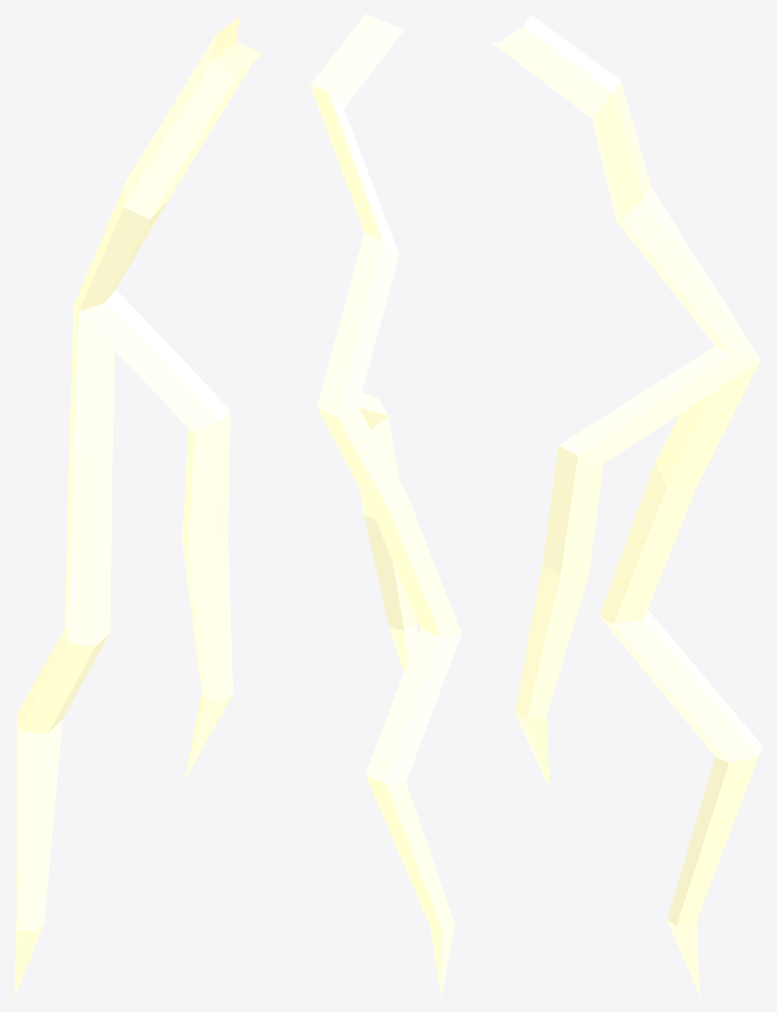
3 renders of one model, left to right at view 1: azimuth 30°, elevation 25°; view 2: azimuth 150°, elevation 25°; view 3: azimuth 270°, elevation 25°, orthographic. The views are drawn at different scales.
Parts seen in each view (by area): view 1: lightning_bolt.006, lightning_bolt.007; view 2: lightning_bolt.006, lightning_bolt.007; view 3: lightning_bolt.006, lightning_bolt.007.
Part boxes in pixels (bbox=[...]): lightning_bolt.006: bbox=[14, 17, 262, 997]; lightning_bolt.007: bbox=[79, 289, 233, 778]; lightning_bolt.006: bbox=[310, 14, 461, 997]; lightning_bolt.007: bbox=[358, 393, 417, 671]; lightning_bolt.006: bbox=[490, 14, 762, 997]; lightning_bolt.007: bbox=[515, 346, 759, 788].
Bounding box in the file's own units: 0.3275 × 1.58 × 0.3697.
